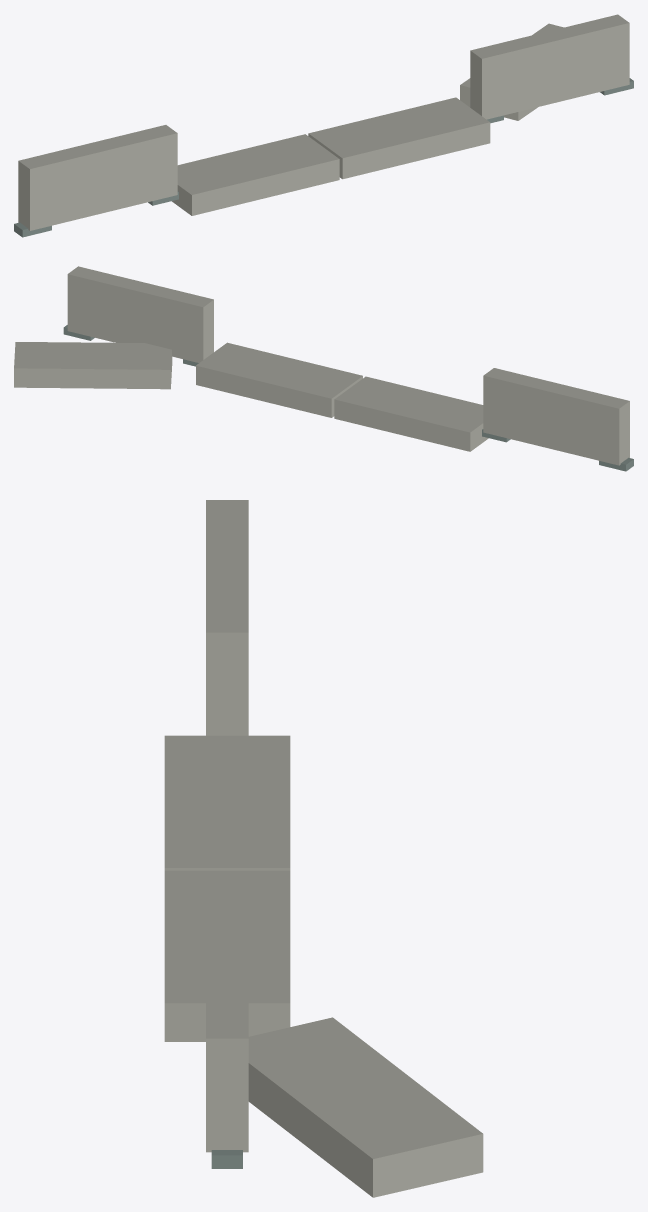
Rendered from SM_Vallas_v4_Caidas_LOD1.fbx.
3 renders of one model, top to bottom at view 1: azimuth 30°, elevation 25°; view 2: azimuth 150°, elevation 25°; view 3: azimuth 270°, elevation 25°, orthographic. The views are drawn at different scales.
Visible parts, largest first — view 1: SM_ambiente_aerodromo_v24_LOD1; view 2: SM_ambiente_aerodromo_v24_LOD1; view 3: SM_ambiente_aerodromo_v24_LOD1.
Part boxes in pixels (x1=…): SM_ambiente_aerodromo_v24_LOD1: x1=14, y1=14, x2=633, y2=237; SM_ambiente_aerodromo_v24_LOD1: x1=14, y1=266, x2=633, y2=471; SM_ambiente_aerodromo_v24_LOD1: x1=164, y1=500, x2=483, y2=1197.
Size of the model in its own units: 10.64 by 1.22 by 2.54.
